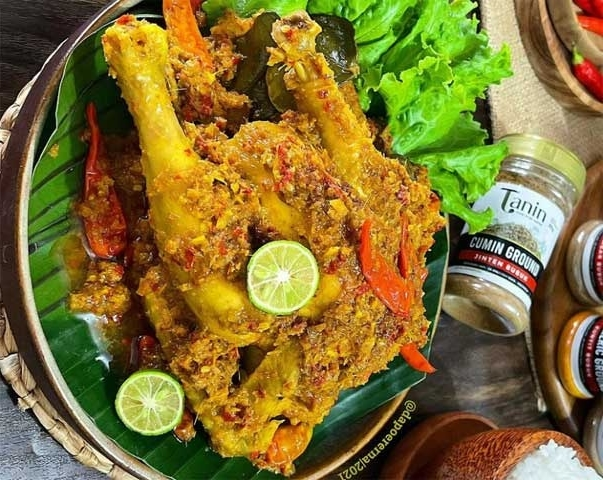ayam_betutu: (102, 18, 446, 471)
